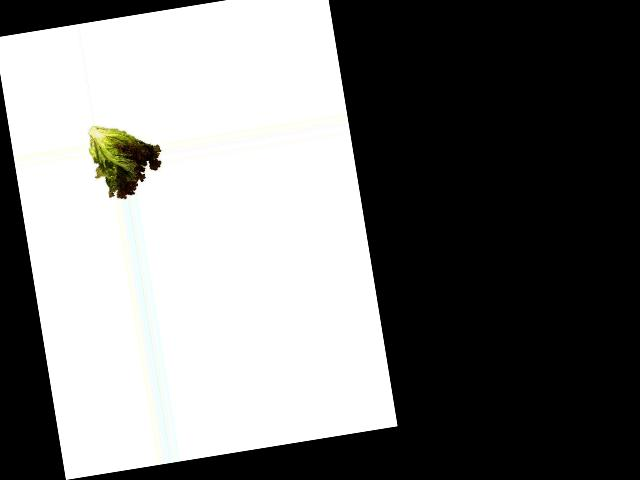lettuce: (86, 117, 166, 203)
